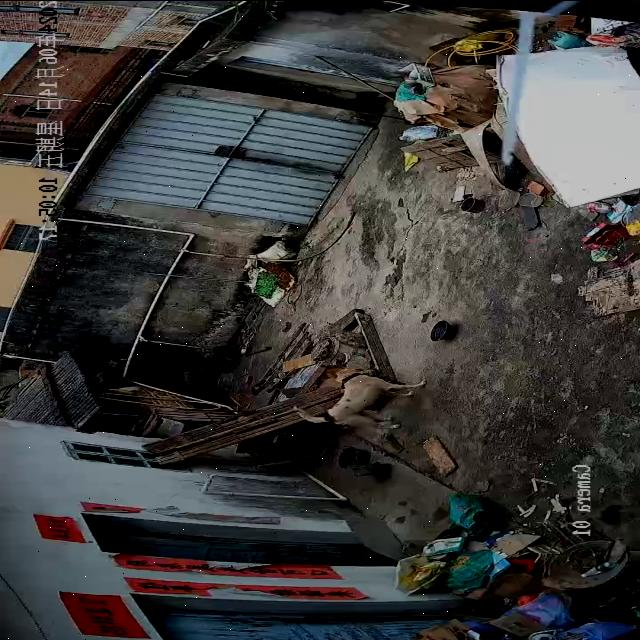dog: (295, 365, 429, 431)
